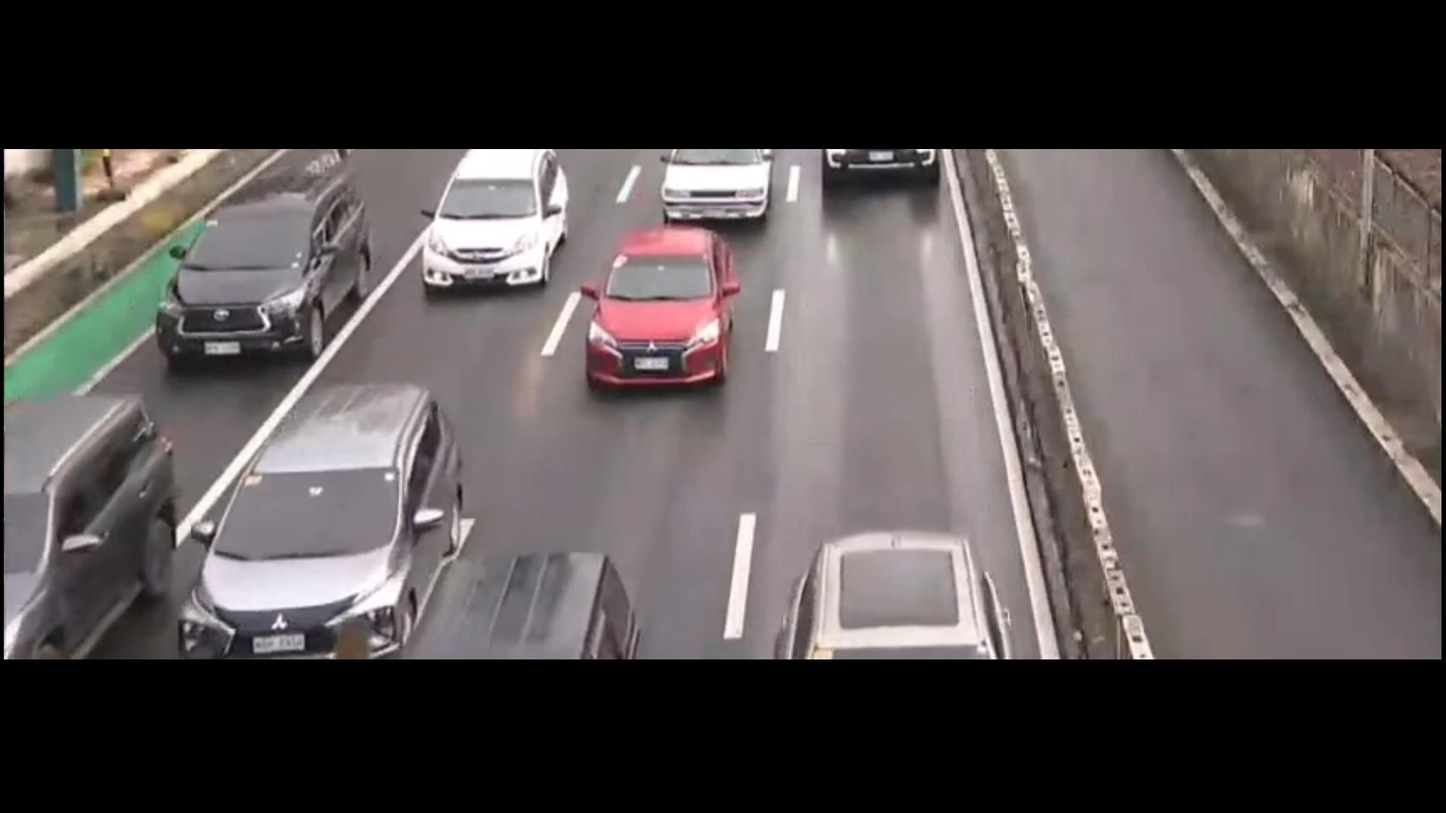SUV: (153, 373, 480, 657), (0, 375, 206, 663), (131, 155, 377, 375), (775, 499, 1017, 657), (400, 531, 669, 658), (417, 149, 578, 301)
Sedan: (555, 222, 752, 411)
